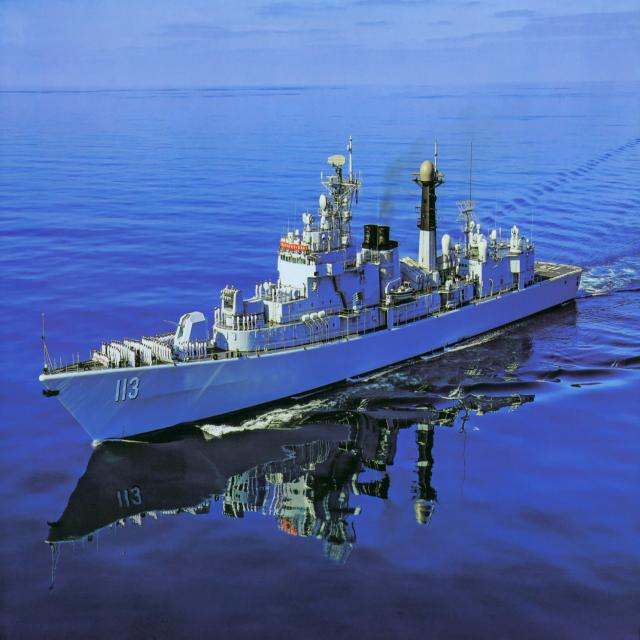navalvessels: (21, 132, 588, 444)
